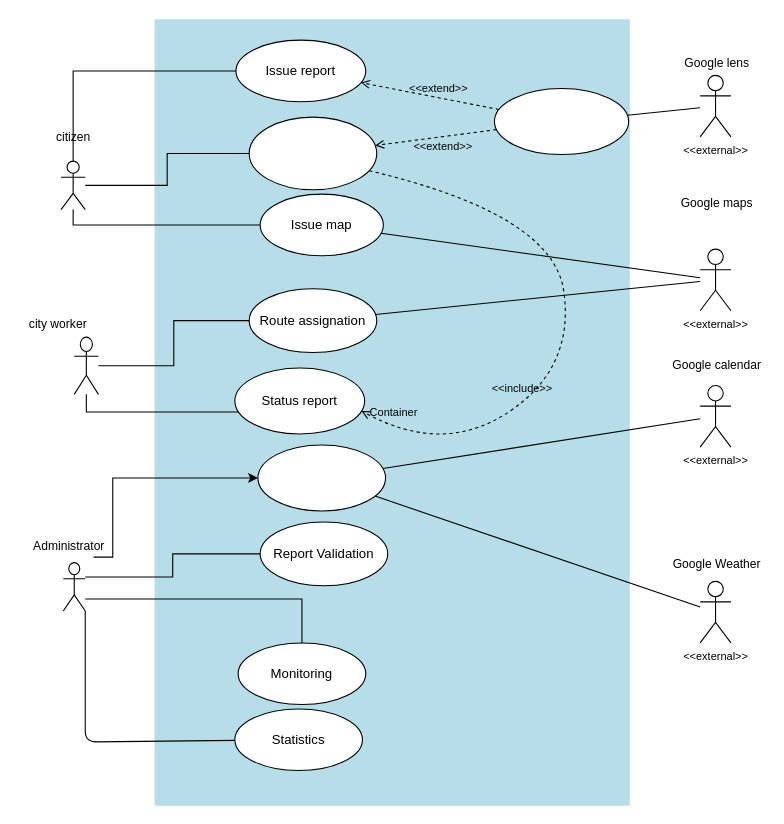
The diagram is 784 pixels wide and 824 high, and some of its shapes have lost their labels. The shapes that lost their labels are listed below. From the top down, each one's centre as x and y in pixels, then its label:
point (561, 121): Photo evidence
point (312, 153): Status Tracking
point (321, 477): Issue assignation
